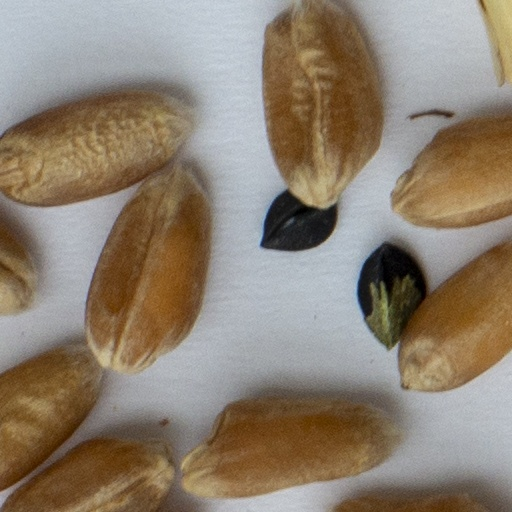Fallopia-Сonvolvulus-poly: (354, 238, 429, 351), (248, 189, 342, 259)
